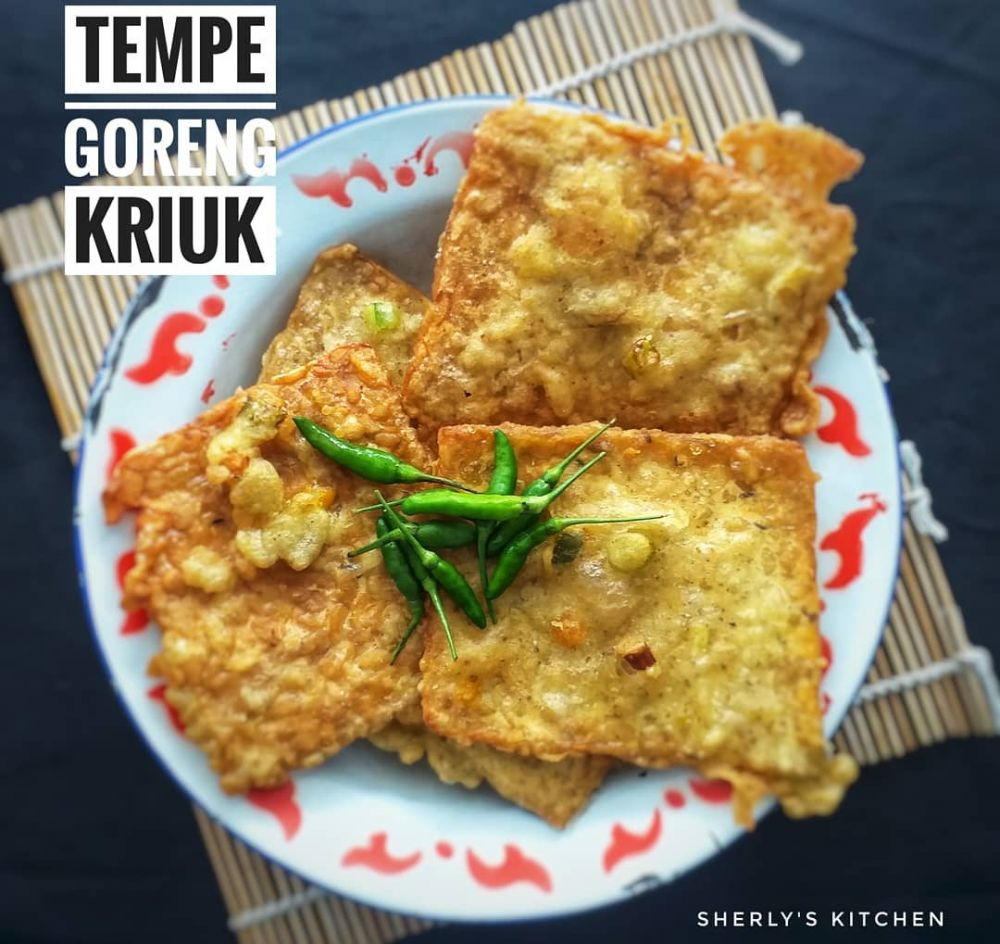Tempe: (457, 59, 891, 412), (371, 457, 790, 789), (95, 348, 402, 740)
